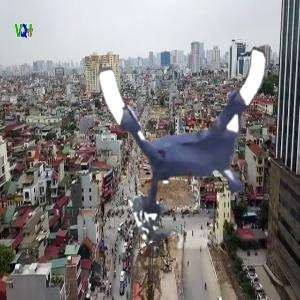drone: (107, 37, 291, 221)
